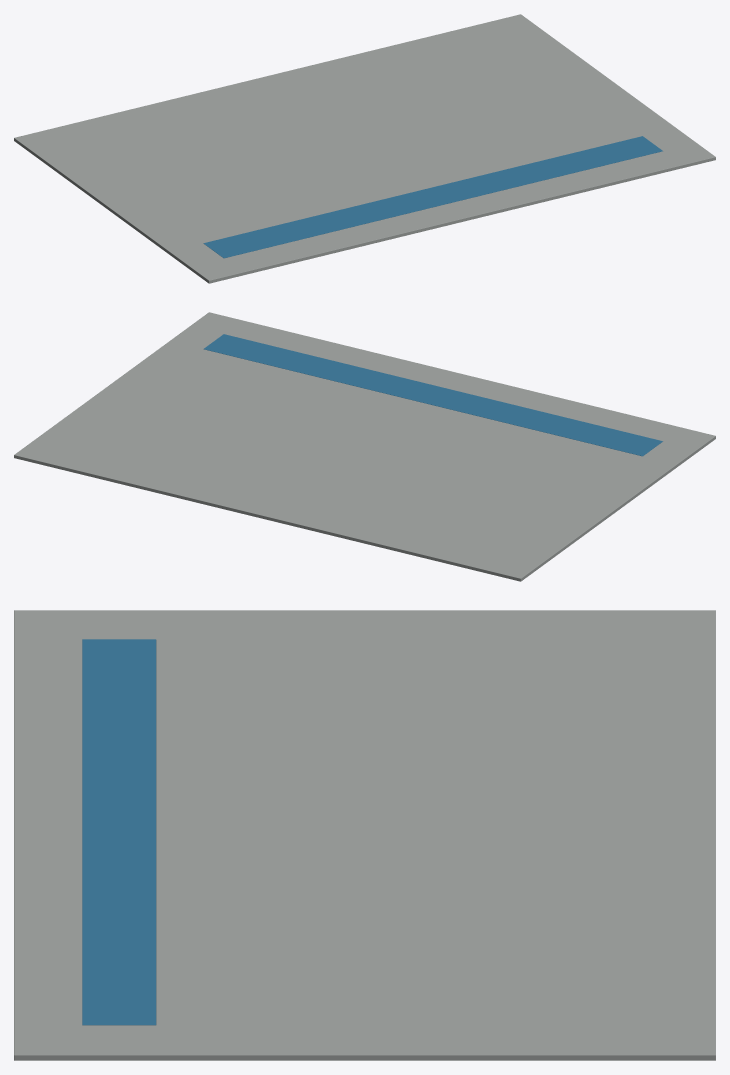
File: recycling-centre-and-material-sorting-recovery-yard-ba-5dbd08a0__31154.glb
3 views of the same model, one above another, from view 1: azimuth 30°, elevation 25°; view 2: azimuth 150°, elevation 25°; view 3: azimuth 270°, elevation 25° (orthographic). The views are drawn at different scales.
Parts seen in each view (by area): view 1: recovery-yard-base; view 2: recovery-yard-base; view 3: recovery-yard-base.
Boxes of the visible parts, bbox=[...] form: recovery-yard-base: bbox=[14, 14, 715, 283]; recovery-yard-base: bbox=[14, 312, 715, 581]; recovery-yard-base: bbox=[14, 610, 715, 1060].
Size of the model in its own units: 30 by 0.1931 by 20.
